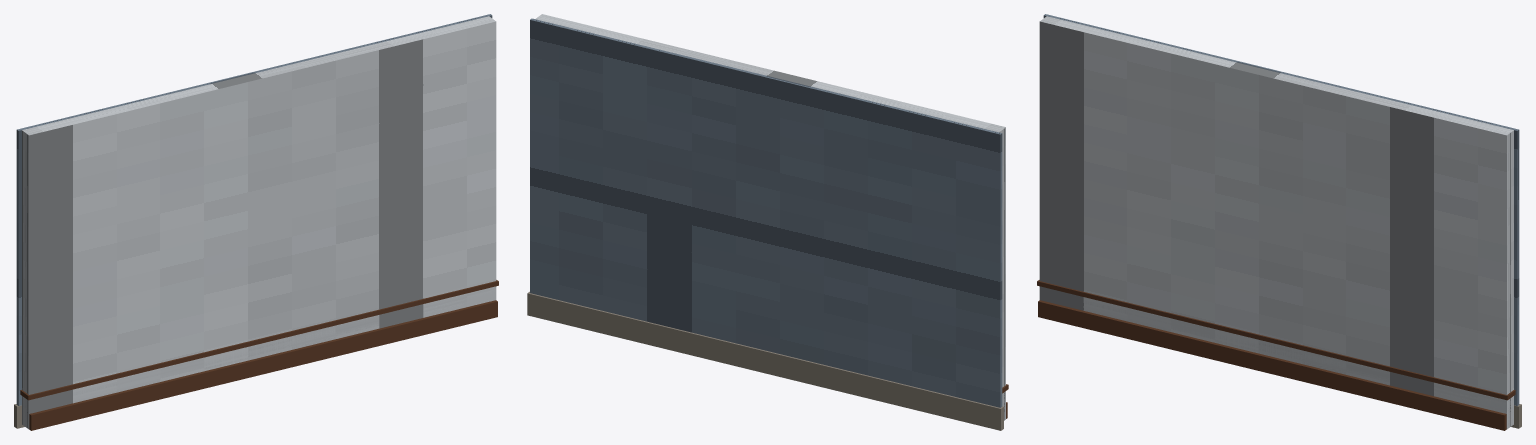
Rendered from jail_front.glb.
3 views of the same model, side by side, from view 1: azimuth 30°, elevation 25°; view 2: azimuth 150°, elevation 25°; view 3: azimuth 330°, elevation 25° (orthographic).
Parts seen in each view (by area): view 1: Box1, Box2, Box5, Box3, Box6; view 2: Box3, Box4, Box1; view 3: Box1, Box2, Box5, Box3, Box6.
Boxes of the visible parts, x1,y1,x2,y2 form: Box1: (22, 16, 496, 429); Box2: (29, 300, 497, 430); Box5: (22, 286, 495, 427); Box3: (16, 14, 492, 405); Box6: (20, 280, 498, 400); Box3: (530, 18, 1002, 407); Box4: (527, 291, 1003, 430); Box1: (535, 14, 1005, 420); Box1: (1039, 16, 1513, 429); Box2: (1038, 300, 1506, 430); Box5: (1039, 286, 1513, 428); Box3: (1043, 14, 1519, 405); Box6: (1037, 280, 1515, 400).
Size of the model in its own units: 5.77 by 3.44 by 0.25.
4 materials, 2 textured.
